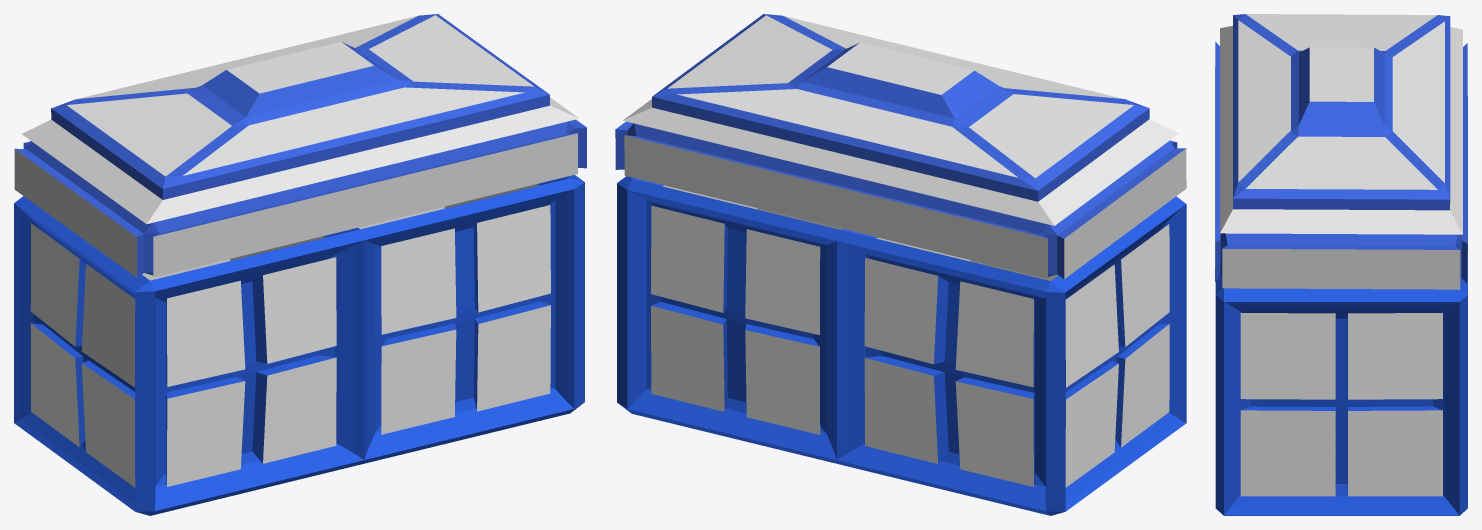
Rendered from Cargo box Closed UNITY 1.fbx.
The picture shows the model from 3 angles, left to right: view 1: azimuth 30°, elevation 25°; view 2: azimuth 150°, elevation 25°; view 3: azimuth 270°, elevation 25°; orthographic projection. The views are drawn at different scales.
Parts seen in each view (by area): view 1: Cube, Cube.001; view 2: Cube, Cube.001; view 3: Cube.001, Cube.
Boxes of the visible parts, <box> form: Cube: <box>14,175,584,515</box>; Cube.001: <box>14,14,586,277</box>; Cube: <box>617,176,1186,515</box>; Cube.001: <box>615,14,1186,279</box>; Cube.001: <box>1215,14,1467,289</box>; Cube: <box>1215,96,1467,515</box>.
Size of the model in its own units: 501 by 375 by 251.
